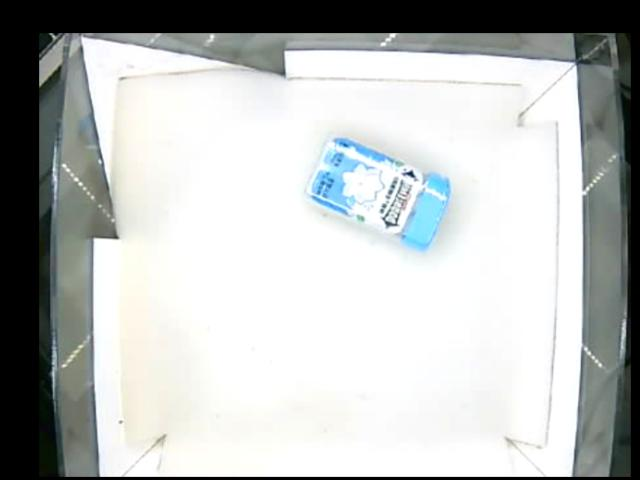Bottle: (305, 136, 451, 251)
